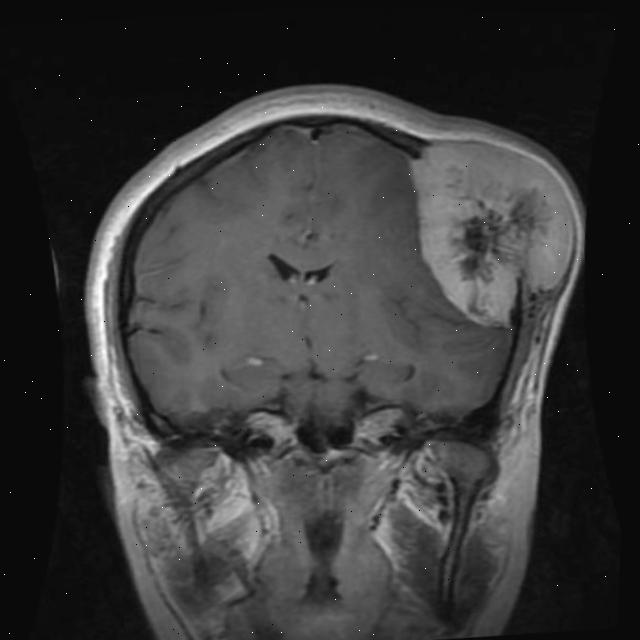Meningioma: (399, 121, 592, 342)
